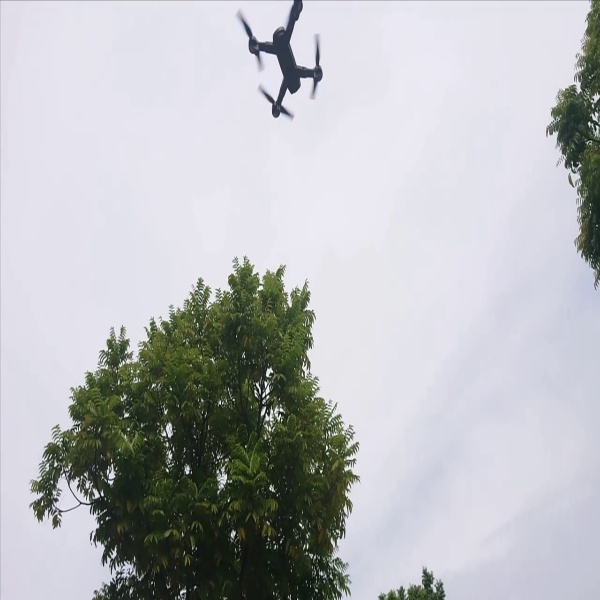drone: (225, 1, 349, 131)
